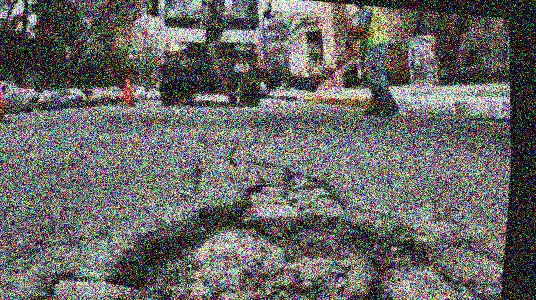pothole: (99, 185, 442, 300)
